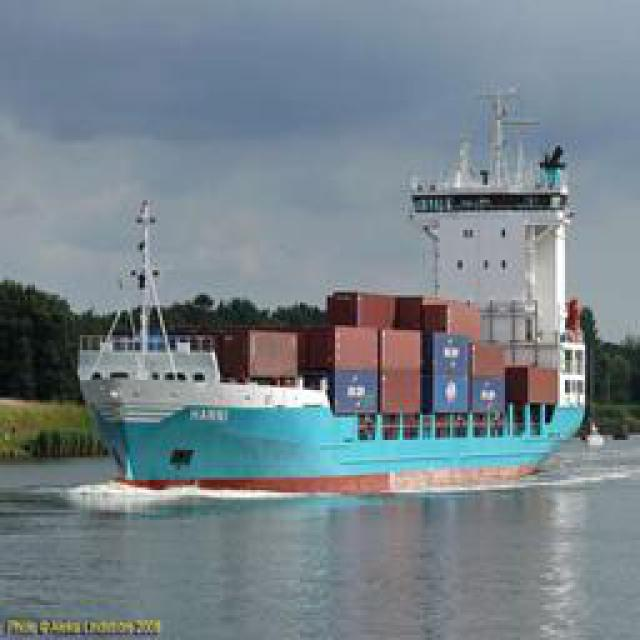Ship: (83, 149, 588, 489)
